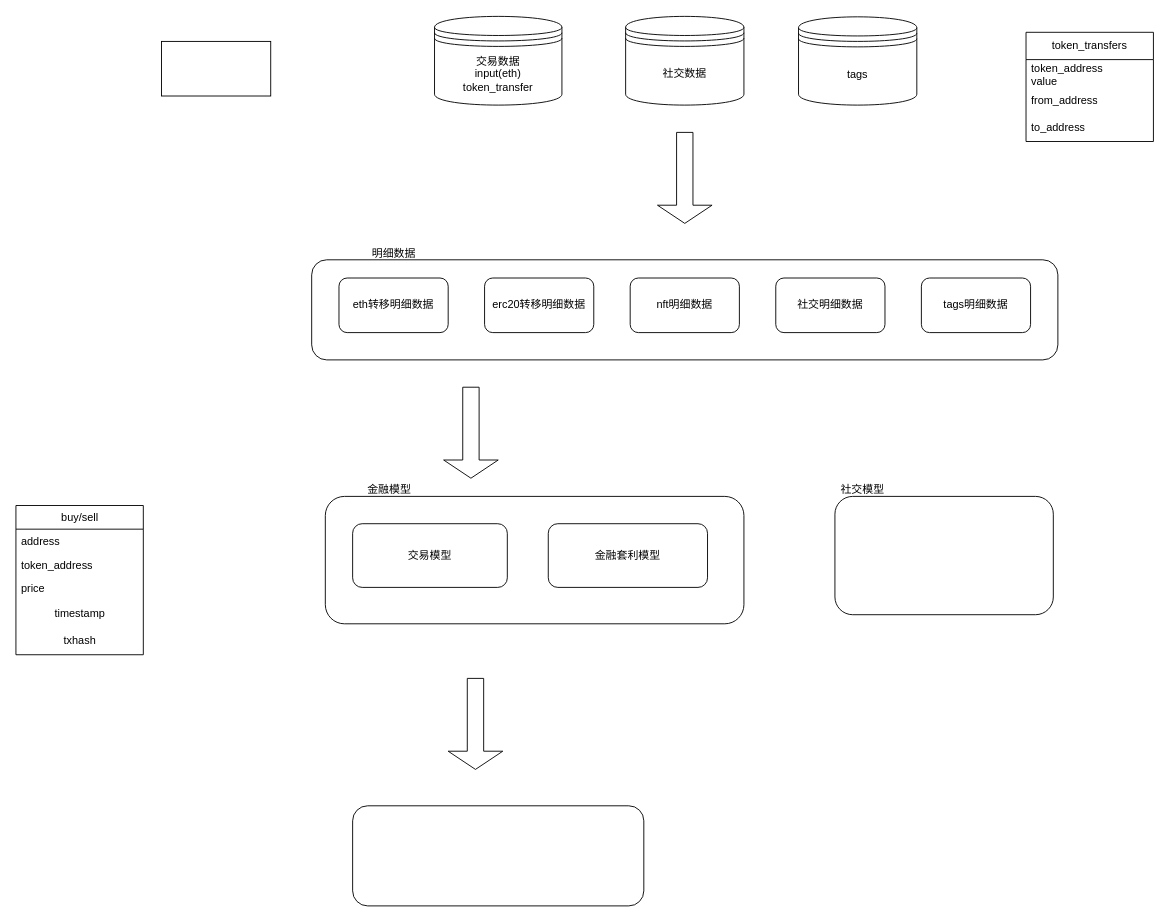
Some shapes in this 1169 by 922 pixel diagram are drawn without their labels. The shapes that lost their labels are listed below. From the top down, each one's centre as x and y in pixels, then its label:
pixel 216 68: 源数据
pixel 498 855: 机器学习
